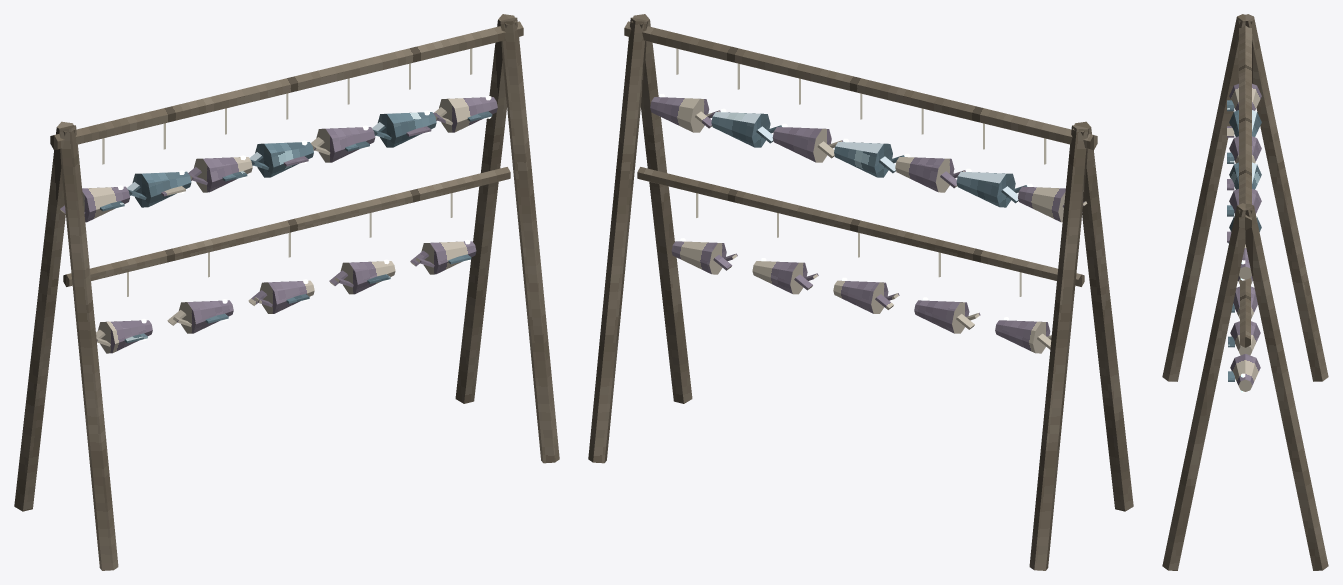
File: fish_rack.glb
The picture shows the model from 3 angles, left to right: view 1: azimuth 30°, elevation 25°; view 2: azimuth 150°, elevation 25°; view 3: azimuth 270°, elevation 25°; orthographic projection. The views are drawn at different scales.
Parts seen in each view (by area): view 1: body; view 2: body; view 3: body.
Boxes of the visible parts, x1=… form: body: x1=14, y1=14, x2=559, y2=570; body: x1=588, y1=14, x2=1133, y2=570; body: x1=1162, y1=14, x2=1328, y2=570.
Bounding box in the file's own units: 1.9 × 1.61 × 0.6688.
5 materials, 3 textured.
